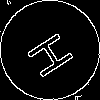H: (25, 25, 83, 81)
